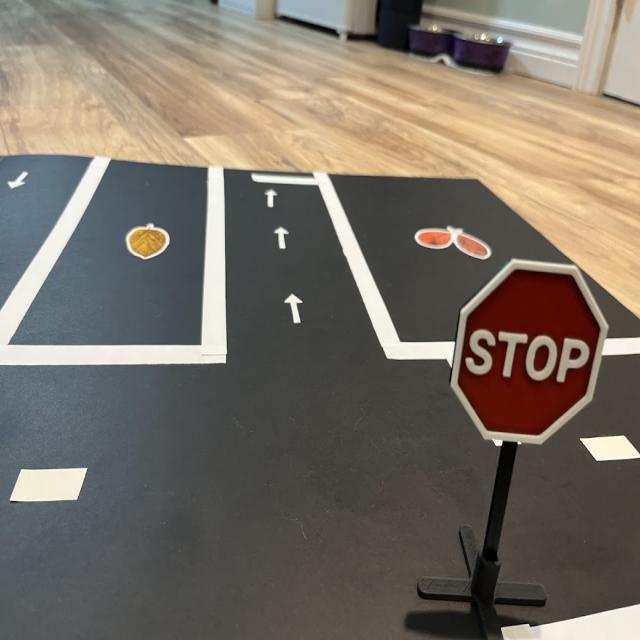road_oneway: (283, 291, 309, 336), (7, 167, 34, 195), (272, 224, 291, 256), (262, 188, 279, 213)
sign_stop: (453, 261, 608, 442)
